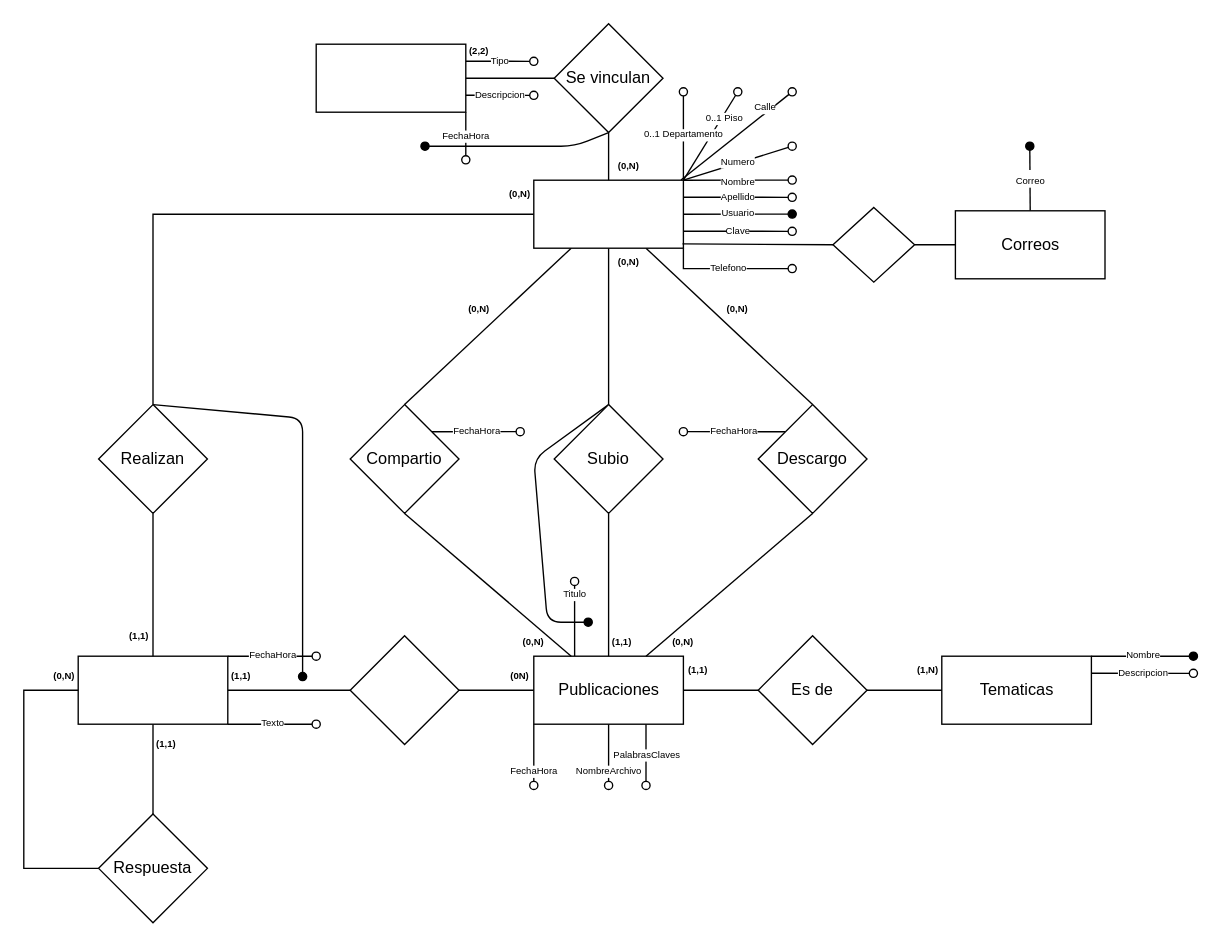
The diagram is 1228 pixels wide and 947 high, and some of its shapes have lost their labels. The shapes that lost their labels are listed below. From the top down, each one's box as (x1, y1, x2, y2) in pixels, then its label:
(315, 43, 466, 112): Vinculo
(532, 179, 683, 248): Usuarios
(832, 206, 915, 282): Tienen2
(77, 655, 228, 724): Comentarios
(349, 634, 459, 745): Tienen
